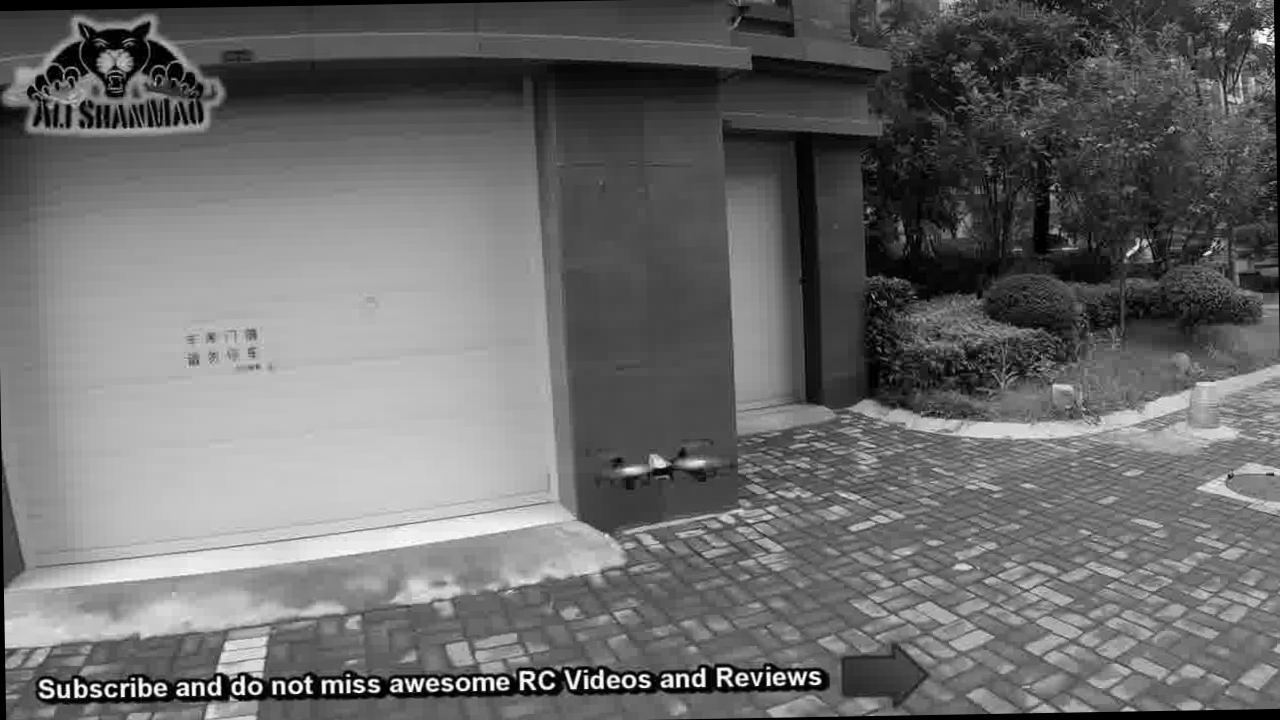drone: (577, 432, 729, 510)
